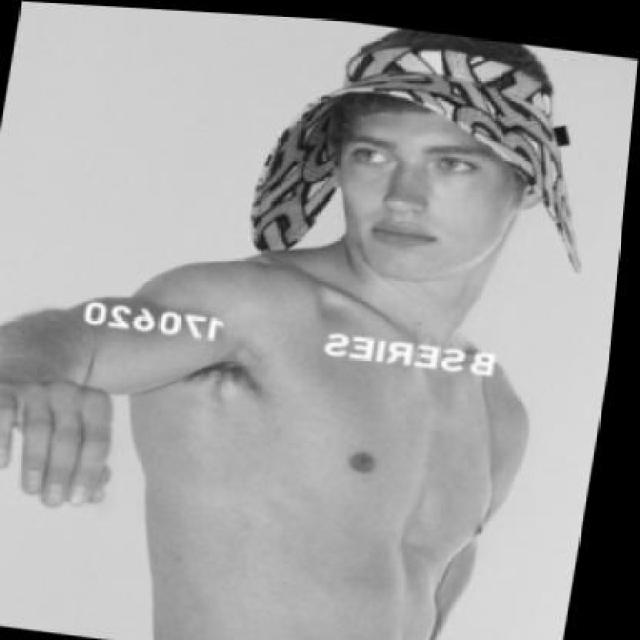hat: (252, 41, 586, 265)
